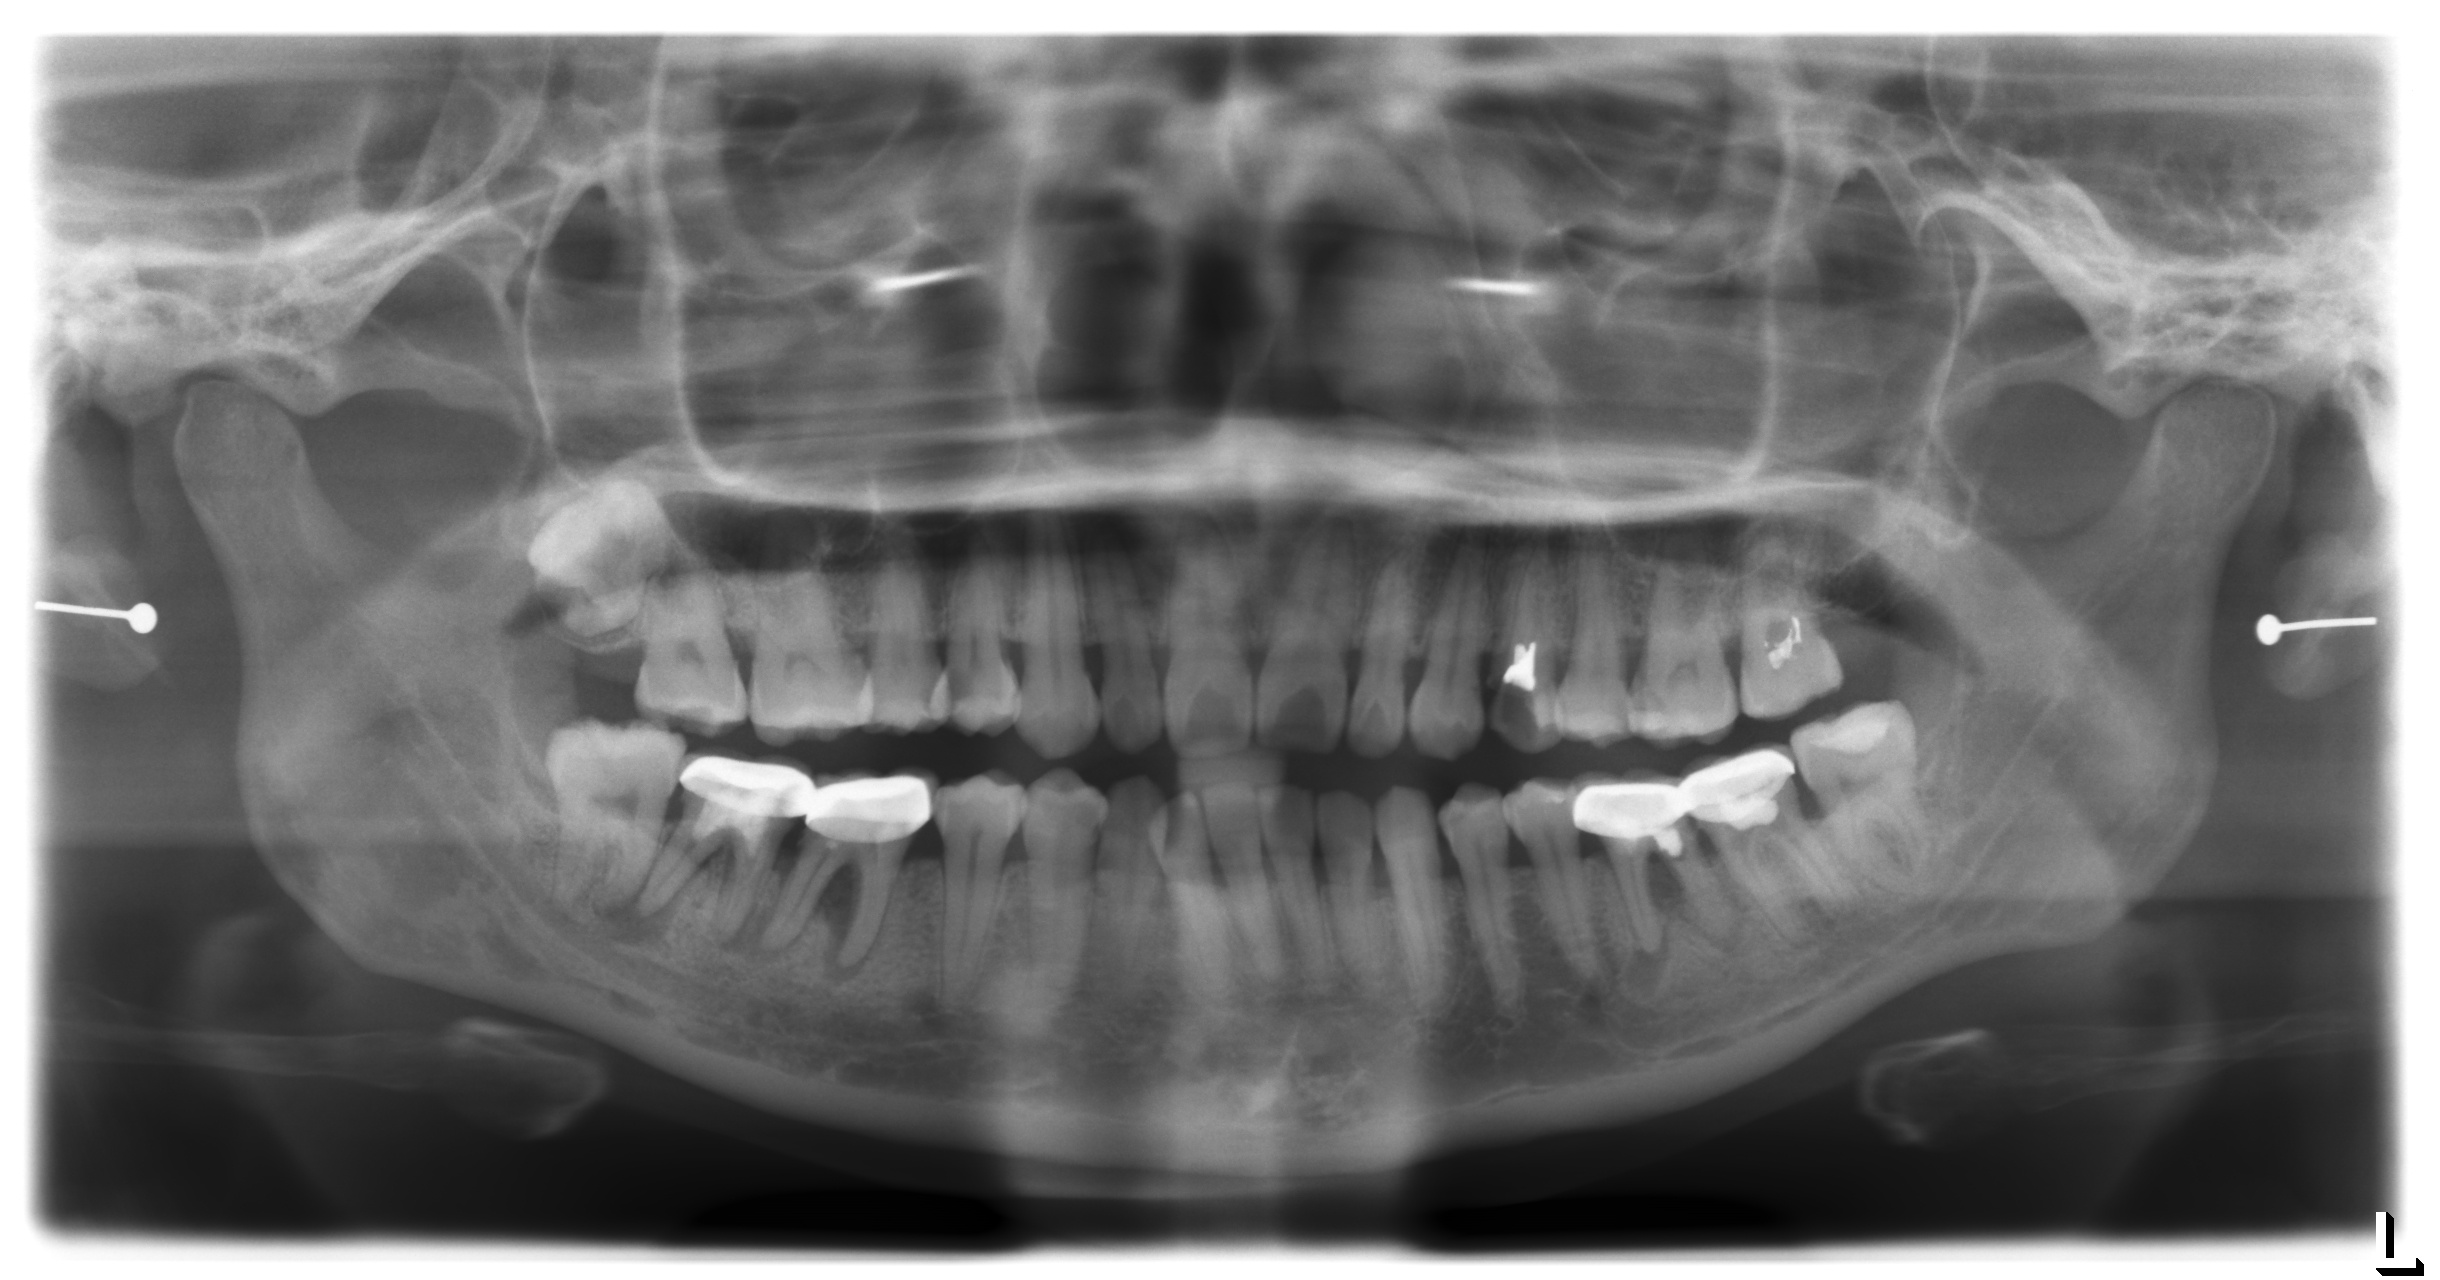Decay: (1481, 668, 1557, 749)
